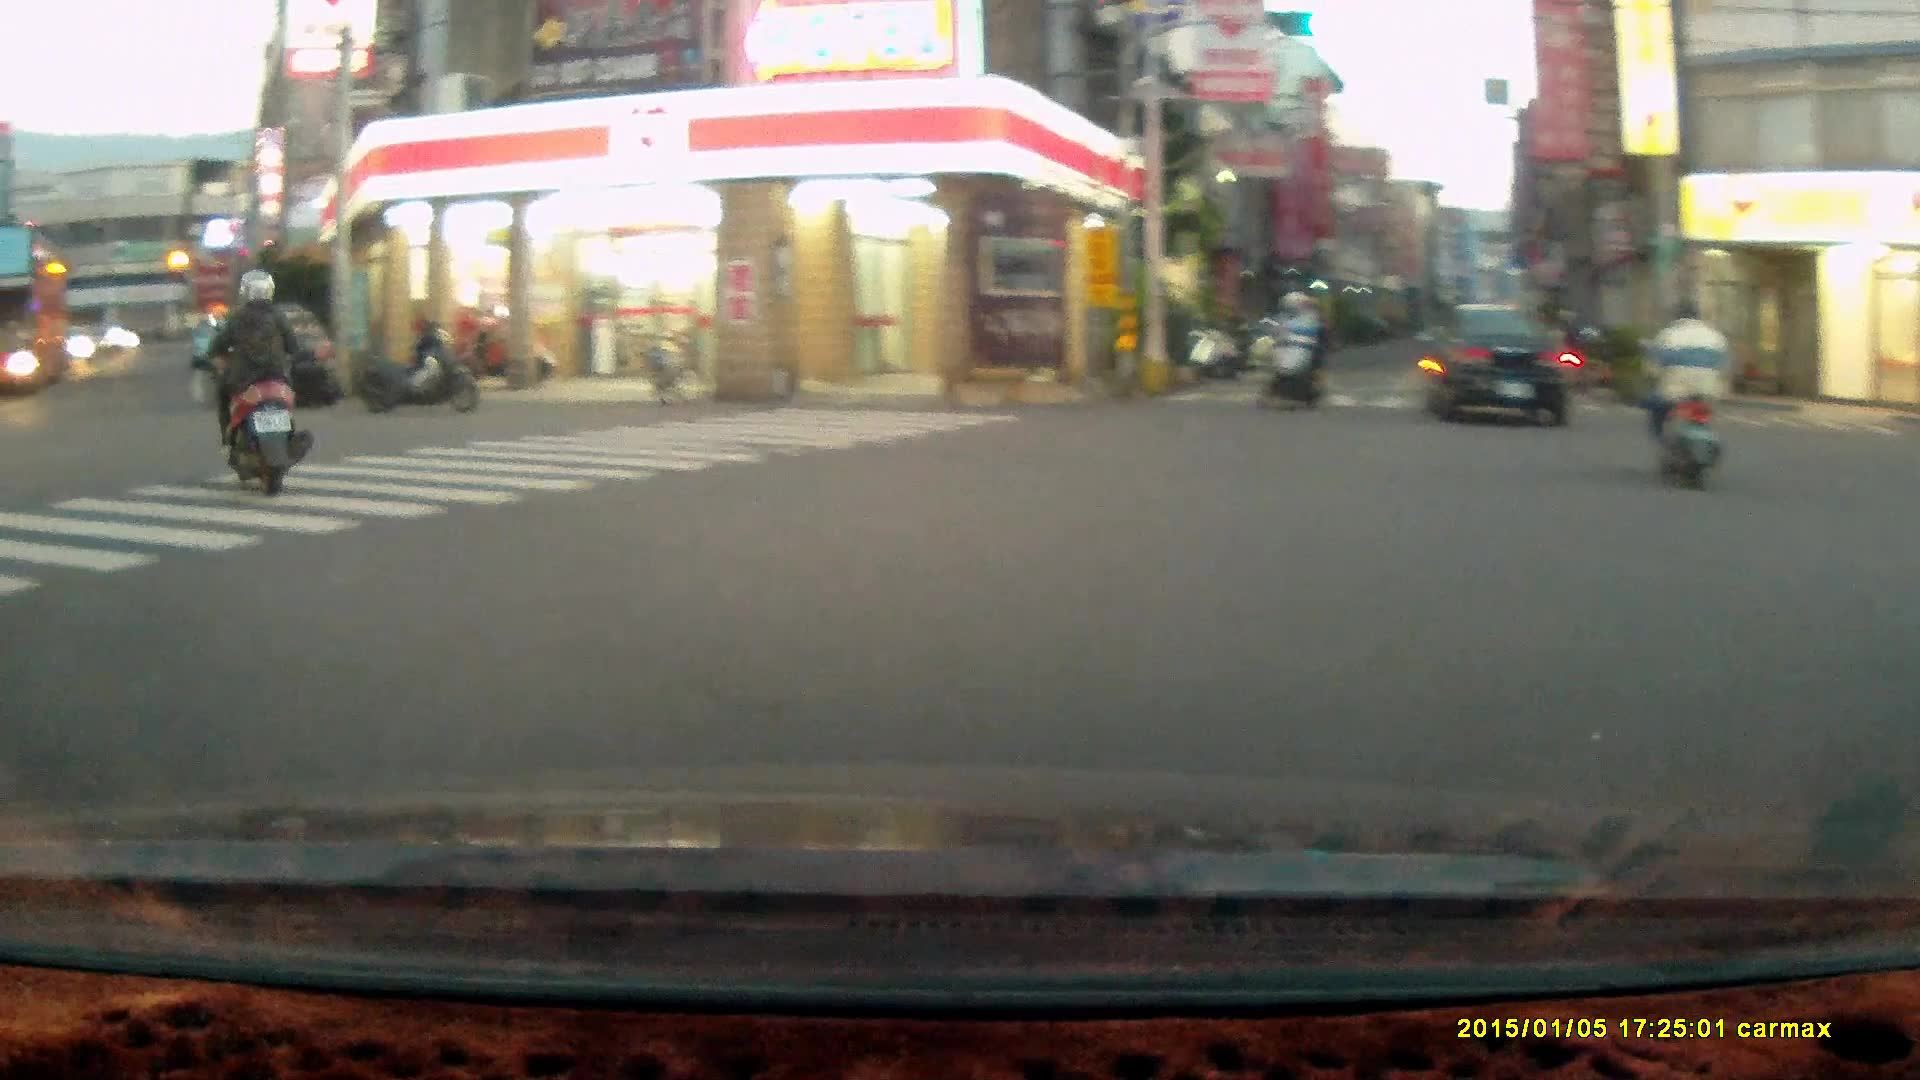rider: (204, 268, 312, 496), (1639, 292, 1734, 491), (1257, 287, 1326, 414)
vehicle: (1420, 302, 1581, 426), (209, 300, 343, 404)
